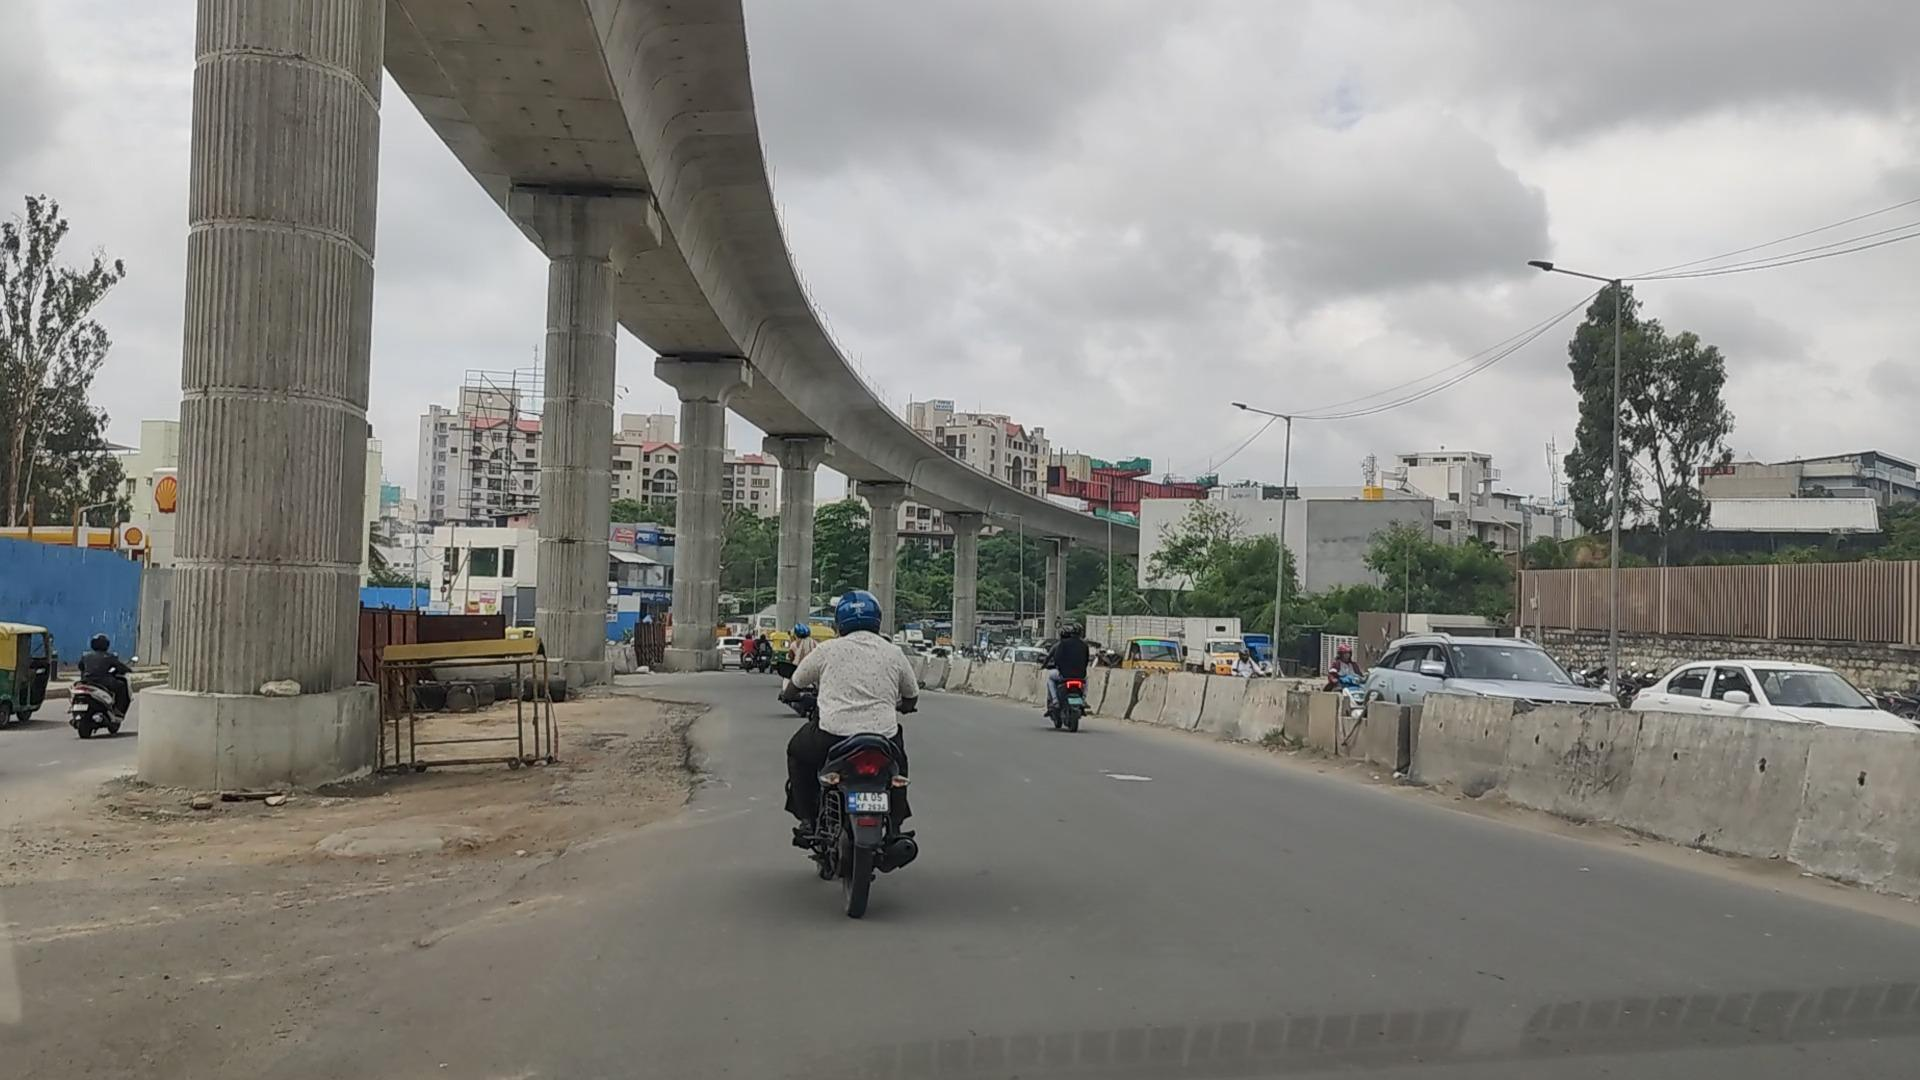LMV: (794, 596, 922, 890), (1048, 615, 1101, 735), (74, 640, 124, 748)
RoadDamages: (336, 832, 559, 1062), (38, 803, 338, 901), (582, 680, 717, 841)
